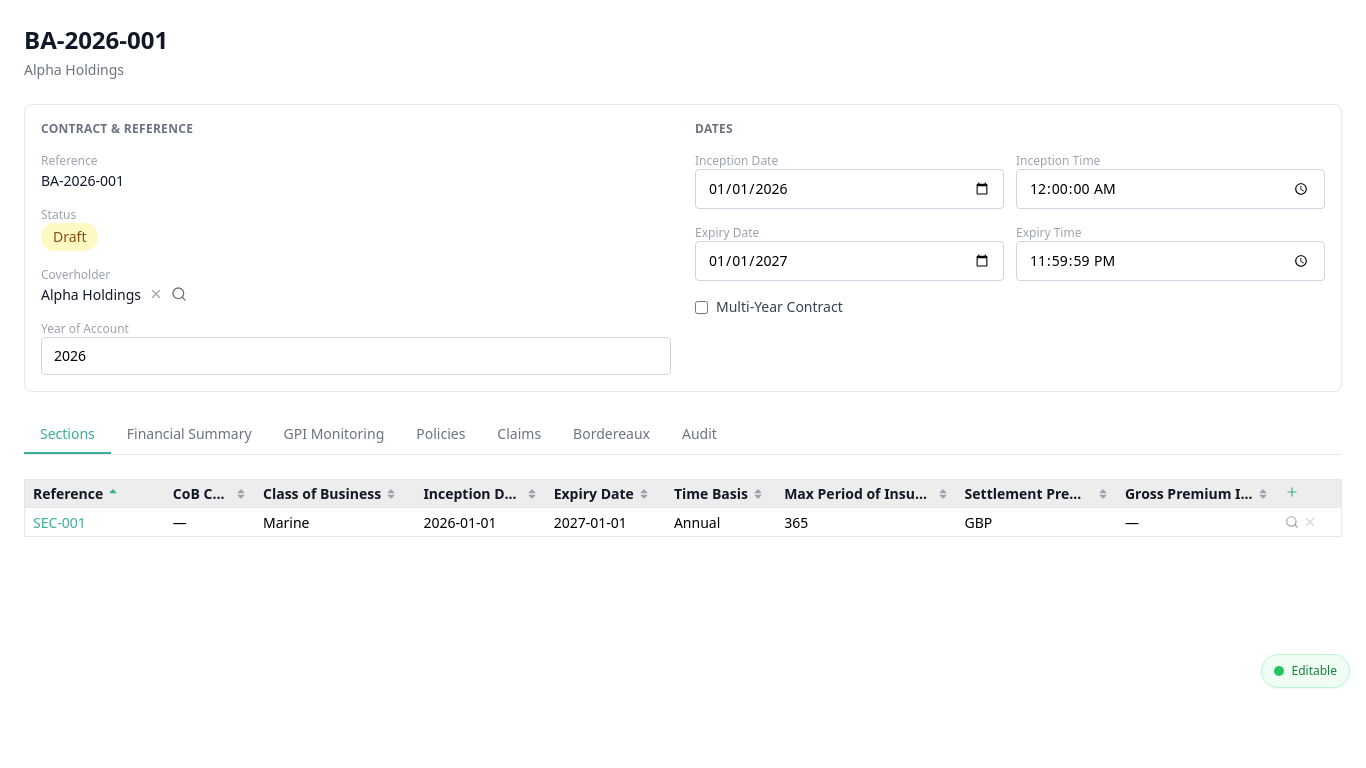
BAViewPage â€” Financial Summary Tab › T-BA-FE-F-R041 â€” Financial Summary tab renders without crashing
expect the heading "BA-2026-001" is shown: met, box [24, 24, 168, 56]
Click the button "Financial Summary" at [189, 435], box [111, 416, 268, 454]
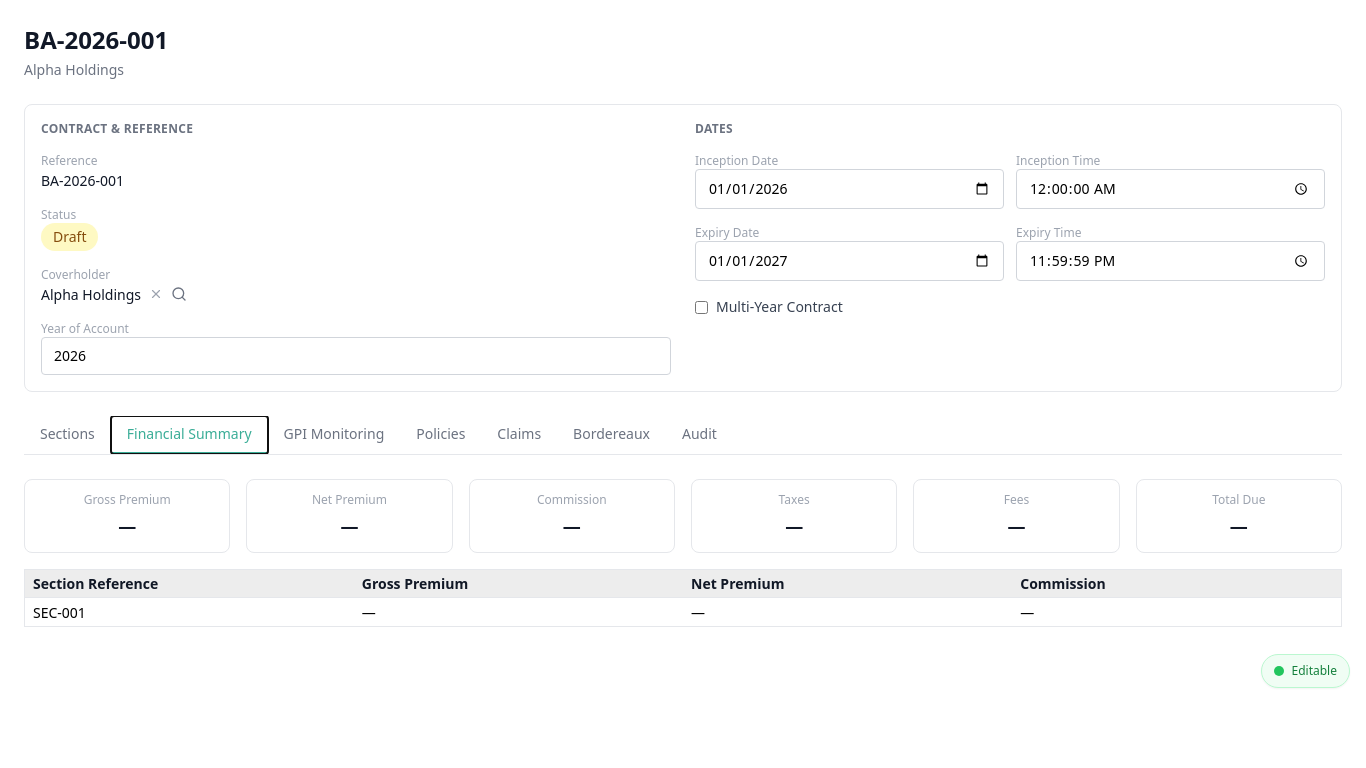
expect the text "Total Due" is shown: met, box [1212, 491, 1266, 508]
